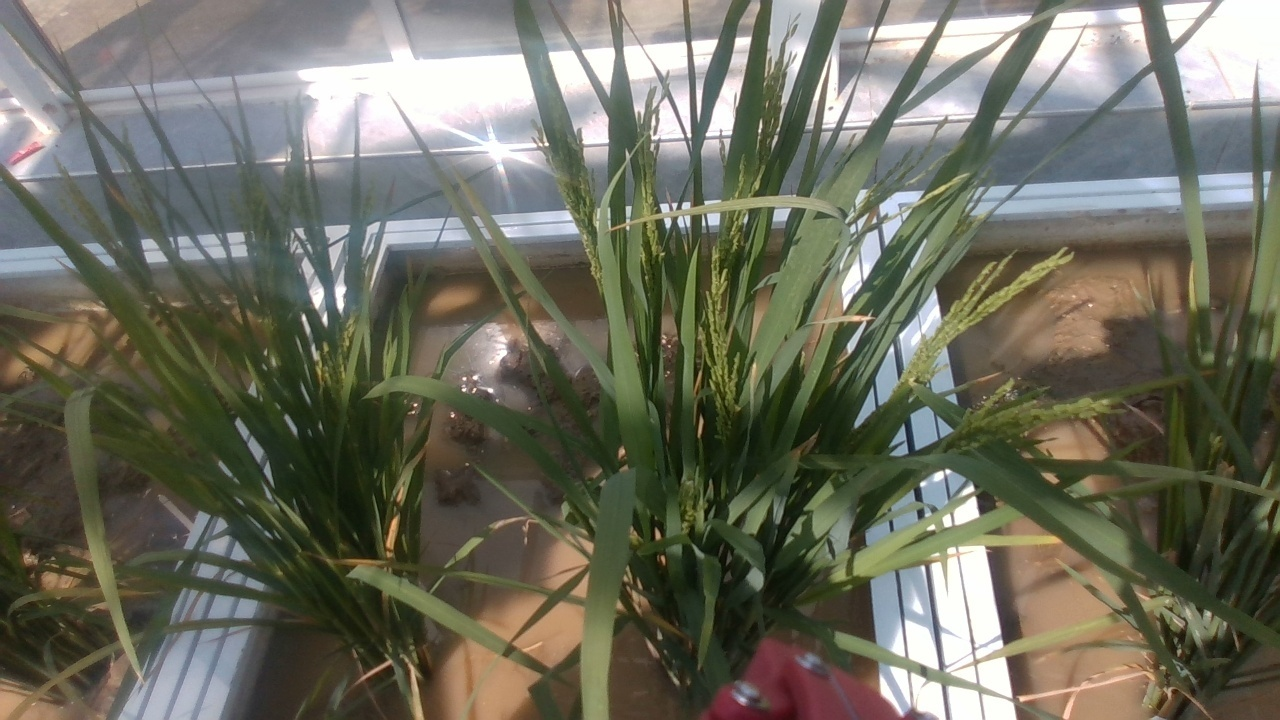panicle: (899, 246, 1076, 383), (934, 394, 1121, 456), (532, 147, 604, 271), (693, 251, 738, 425), (629, 91, 675, 225), (746, 52, 799, 154)
